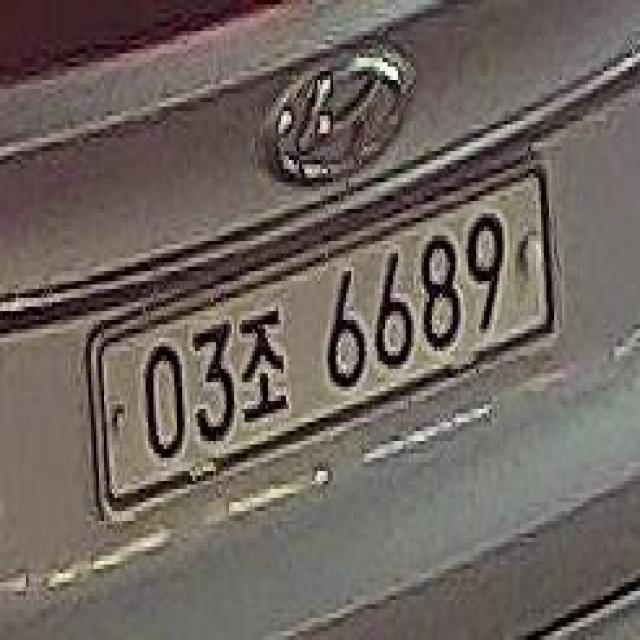illegal_plate: (85, 164, 558, 522)
